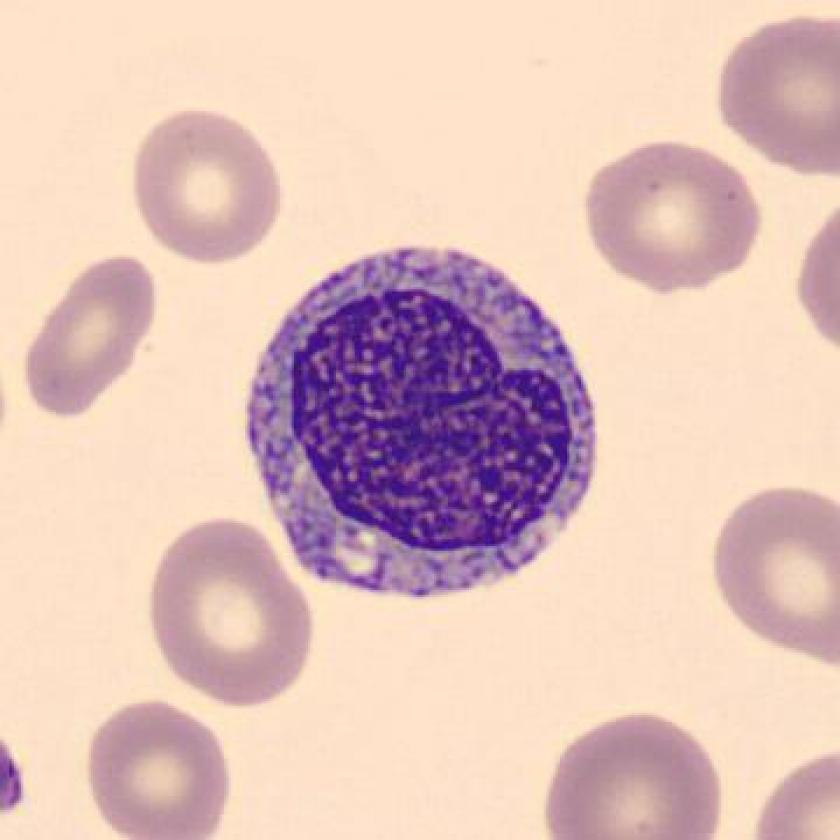monocyte: (223, 228, 624, 626)
